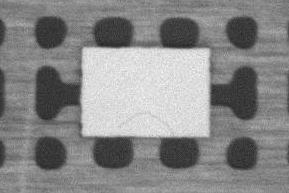DIE_CRACK: (118, 110, 174, 135)
